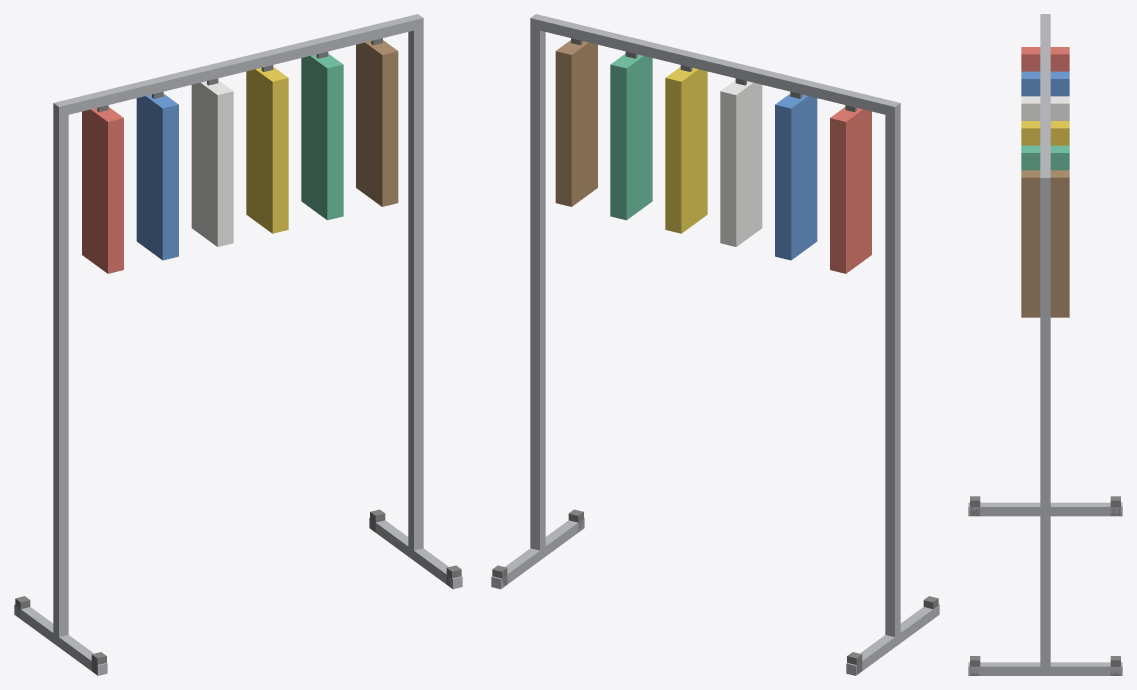
Rendered from clothes-rack.glb.
3 views of the same model, side by side, from view 1: azimuth 30°, elevation 25°; view 2: azimuth 150°, elevation 25°; view 3: azimuth 270°, elevation 25° (orthographic). The views are drawn at different scales.
Visible parts, largest first — view 1: clothes-rack_Cube.003, clothes-rack_Cube.007, clothes-rack_Cube.017, clothes-rack_Cube.019, clothes-rack_Cube.013, clothes-rack_Cube.015, clothes-rack_Cube.011, clothes-rack_Cube.009, clothes-rack_Cube.008, clothes-rack_Cube.002, clothes-rack_Cube.006; view 2: clothes-rack_Cube.003, clothes-rack_Cube.007, clothes-rack_Cube.017, clothes-rack_Cube.019, clothes-rack_Cube.013, clothes-rack_Cube.015, clothes-rack_Cube.011, clothes-rack_Cube.009, clothes-rack_Cube.008, clothes-rack_Cube.006, clothes-rack_Cube.002; view 3: clothes-rack_Cube.019, clothes-rack_Cube.007, clothes-rack_Cube.002, clothes-rack_Cube.006, clothes-rack_Cube.008, clothes-rack_Cube.011, clothes-rack_Cube.017, clothes-rack_Cube.009, clothes-rack_Cube.013, clothes-rack_Cube.015.
Boxes of the visible parts, box(x1,y1,x2,y2) form: clothes-rack_Cube.003: box(53, 100, 68, 646); clothes-rack_Cube.007: box(408, 14, 423, 560); clothes-rack_Cube.017: box(301, 53, 343, 220); clothes-rack_Cube.019: box(356, 40, 398, 206); clothes-rack_Cube.013: box(191, 80, 233, 246); clothes-rack_Cube.015: box(246, 67, 288, 233); clothes-rack_Cube.011: box(136, 94, 178, 260); clothes-rack_Cube.009: box(82, 107, 123, 273); clothes-rack_Cube.008: box(59, 15, 418, 115); clothes-rack_Cube.002: box(14, 604, 107, 675); clothes-rack_Cube.006: box(369, 517, 462, 589); clothes-rack_Cube.003: box(885, 100, 900, 646); clothes-rack_Cube.007: box(530, 14, 545, 559); clothes-rack_Cube.017: box(610, 53, 652, 220); clothes-rack_Cube.019: box(555, 40, 597, 206); clothes-rack_Cube.013: box(720, 80, 762, 246); clothes-rack_Cube.015: box(665, 67, 707, 233); clothes-rack_Cube.011: box(775, 94, 817, 260); clothes-rack_Cube.009: box(830, 107, 871, 273); clothes-rack_Cube.008: box(535, 15, 894, 115); clothes-rack_Cube.006: box(491, 517, 584, 589); clothes-rack_Cube.002: box(846, 604, 939, 675); clothes-rack_Cube.019: box(1021, 170, 1069, 317); clothes-rack_Cube.007: box(1040, 173, 1050, 675); clothes-rack_Cube.002: box(968, 502, 1122, 516); clothes-rack_Cube.006: box(968, 662, 1122, 675); clothes-rack_Cube.008: box(1040, 17, 1050, 175); clothes-rack_Cube.011: box(1021, 71, 1069, 96); clothes-rack_Cube.017: box(1021, 145, 1069, 170); clothes-rack_Cube.009: box(1021, 47, 1069, 71); clothes-rack_Cube.013: box(1021, 96, 1069, 120); clothes-rack_Cube.015: box(1021, 121, 1069, 145).
Size of the model in its own units: 1.13 by 1.6 by 0.45.
